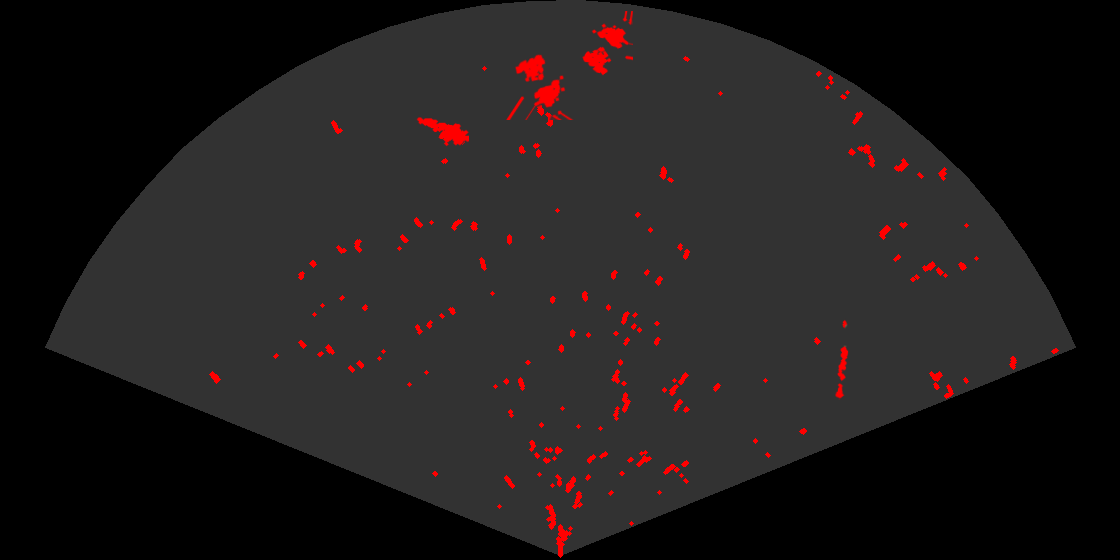cage: (505, 53, 575, 120), (581, 11, 633, 77)
chain: (834, 318, 850, 400)
frogman: (415, 116, 469, 148)
